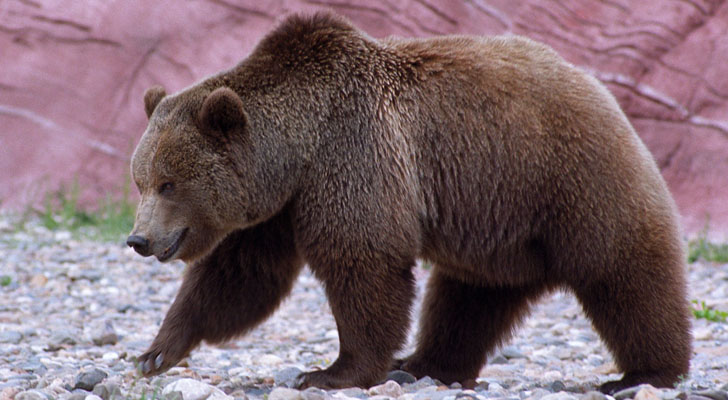bear: (122, 83, 259, 269)
